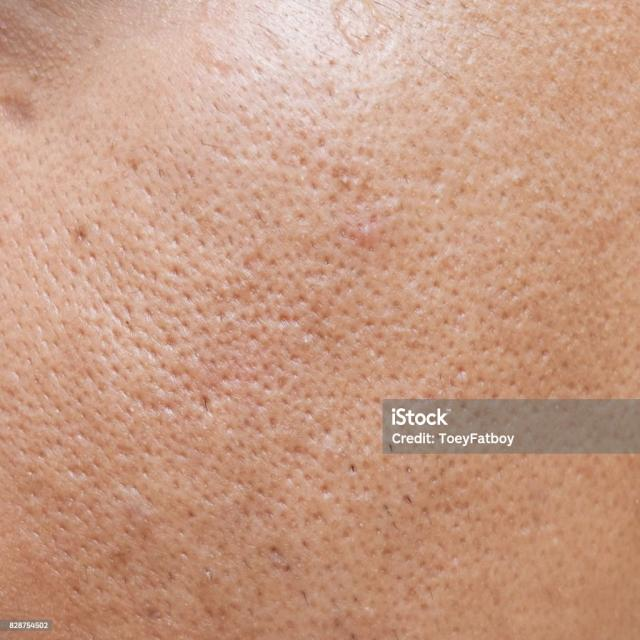Dry-Skin: (56, 289, 269, 579), (254, 65, 426, 324), (147, 406, 301, 550), (339, 177, 491, 310), (161, 119, 220, 347), (498, 86, 640, 164), (522, 285, 573, 457), (386, 579, 640, 606), (282, 445, 438, 471)
